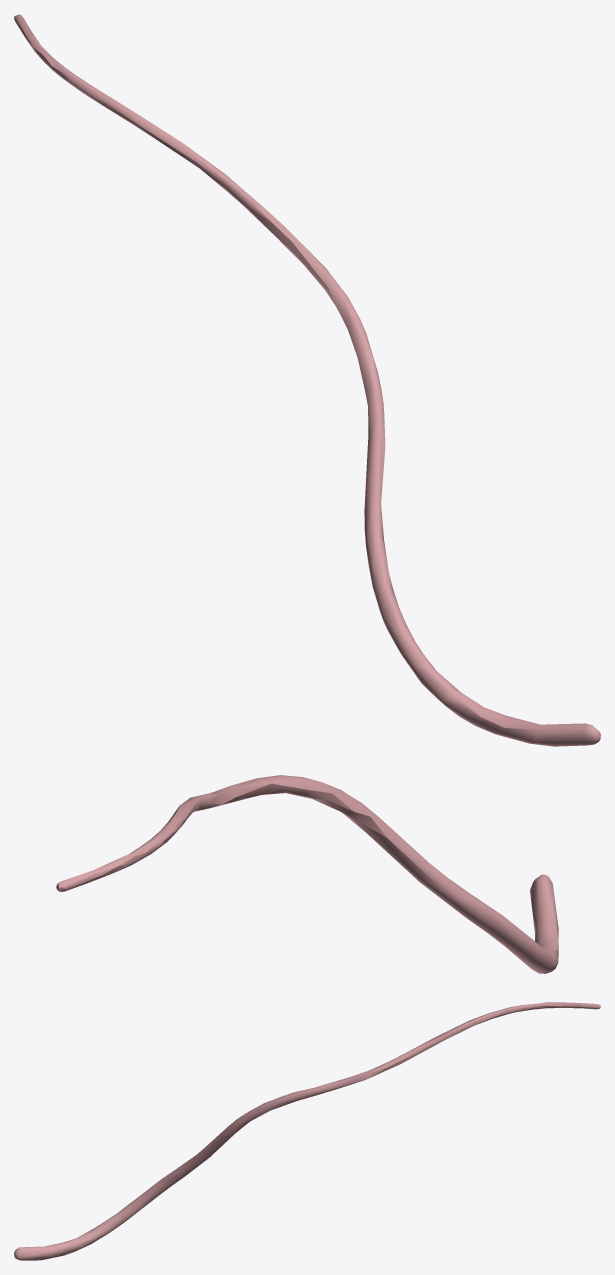
File: fma71869_fj3109.glb
The picture shows the model from 3 angles, top to bottom: view 1: azimuth 30°, elevation 25°; view 2: azimuth 150°, elevation 25°; view 3: azimuth 270°, elevation 25°; orthographic projection. The views are drawn at different scales.
Visible parts, largest first — view 1: FMA71869_FJ3109; view 2: FMA71869_FJ3109; view 3: FMA71869_FJ3109.
Part boxes in pixels (x1,y1,x2,y2): FMA71869_FJ3109: (14,14,600,746); FMA71869_FJ3109: (56,775,558,973); FMA71869_FJ3109: (14,1002,600,1260).
Size of the model in its own units: 0.00813 by 0.0283 by 0.0631.
